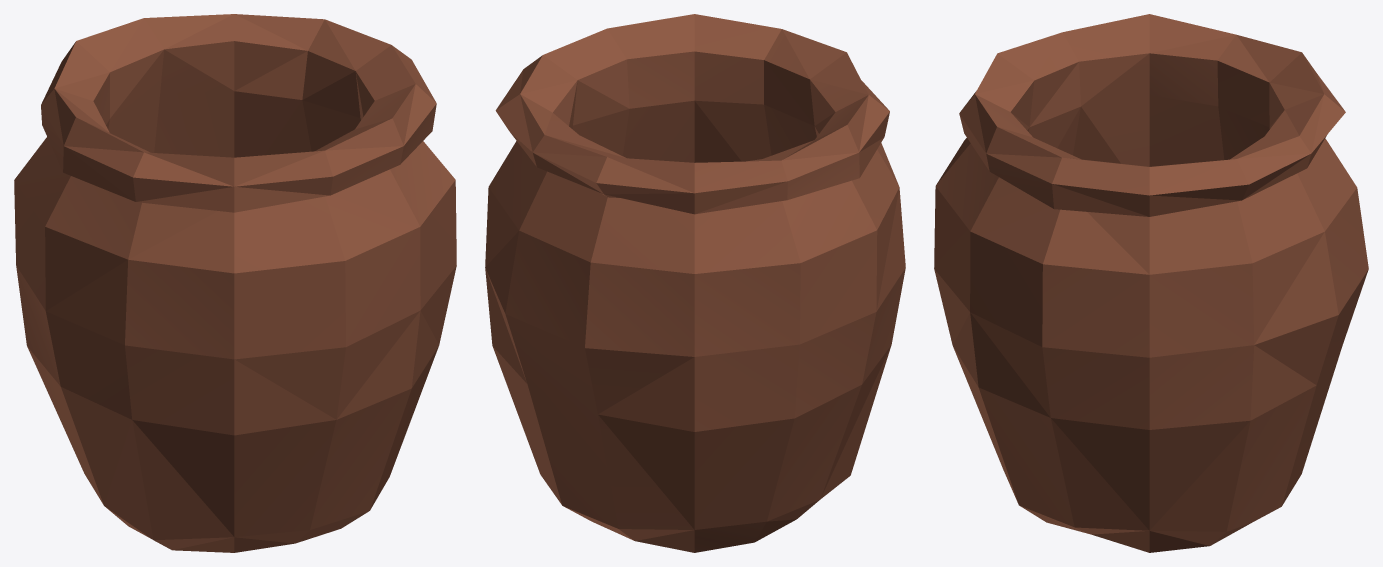
File: Jarra.glb
The picture shows the model from 3 angles, left to right: view 1: azimuth 30°, elevation 25°; view 2: azimuth 150°, elevation 25°; view 3: azimuth 270°, elevation 25°; orthographic projection. The views are drawn at different scales.
Visible parts, largest first — view 1: SM_Prop_Clay_Pot_02; view 2: SM_Prop_Clay_Pot_02; view 3: SM_Prop_Clay_Pot_02.
Boxes of the visible parts, left/top/right/bottom form: SM_Prop_Clay_Pot_02: left=14, top=14, right=456, bottom=552; SM_Prop_Clay_Pot_02: left=485, top=14, right=905, bottom=552; SM_Prop_Clay_Pot_02: left=934, top=14, right=1368, bottom=552.
Bounding box in the file's own units: 0.5862 × 0.6348 × 0.604.
1 material, 1 textured.
